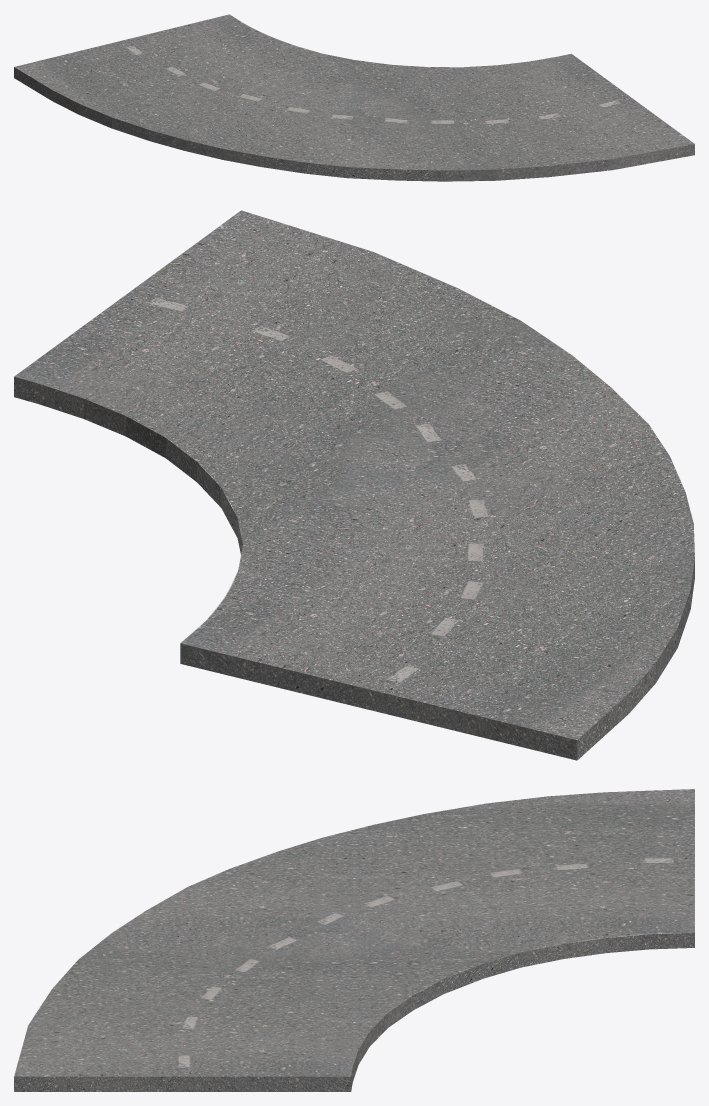
Rendered from roundabout.fbx.
The picture shows the model from 3 angles, top to bottom: view 1: azimuth 30°, elevation 25°; view 2: azimuth 150°, elevation 25°; view 3: azimuth 270°, elevation 25°; orthographic projection. The views are drawn at different scales.
Parts seen in each view (by area): view 1: rond_point_0entry; view 2: rond_point_0entry; view 3: rond_point_0entry.
Boxes of the visible parts, bbox=[...] form: rond_point_0entry: bbox=[14, 14, 694, 181]; rond_point_0entry: bbox=[14, 210, 694, 760]; rond_point_0entry: bbox=[14, 789, 694, 1091].
Bounding box in the file's own units: 200 × 4.92 × 200.
Materials: 1 (1 with a texture image).
